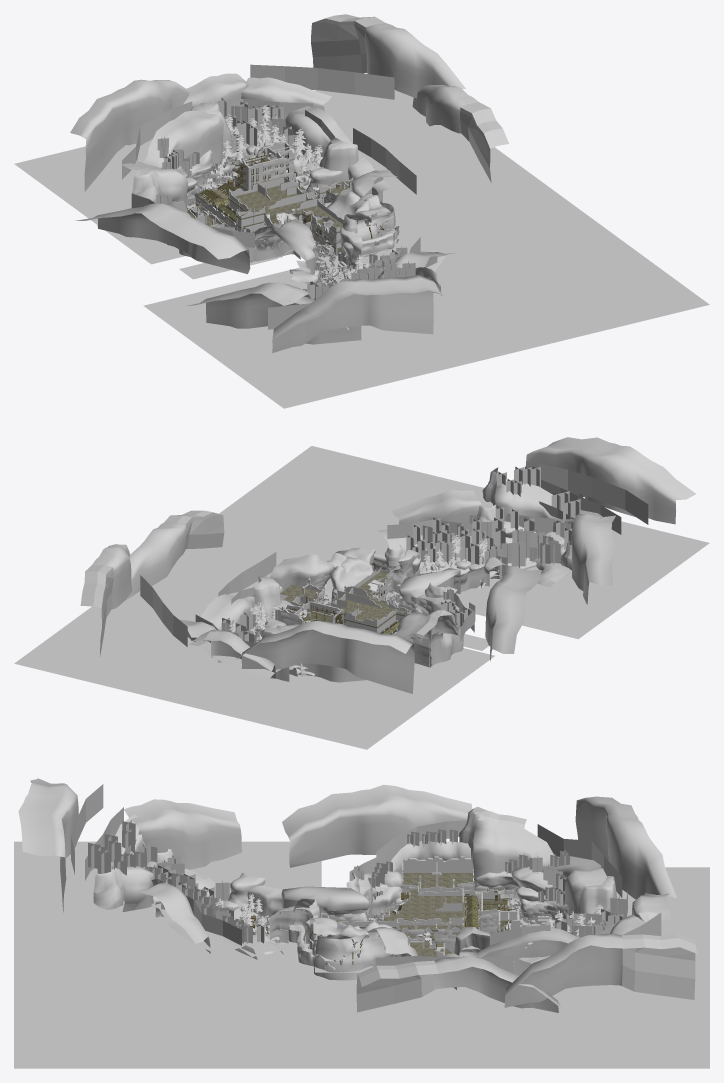
Rendered from StillRaid_World.obj.
The picture shows the model from 3 angles, top to bottom: view 1: azimuth 30°, elevation 25°; view 2: azimuth 150°, elevation 25°; view 3: azimuth 270°, elevation 25°; orthographic projection. The views are drawn at different scales.
Parts seen in each view (by area): view 1: Still_raid_Out, Still_raid_Sub, Z_Still_raid_Alpha, Still_raid_Main; view 2: Still_raid_Out, Z_Still_raid_Alpha, Still_raid_Sub, Still_raid_Main; view 3: Still_raid_Out, Still_raid_Sub, Z_Still_raid_Alpha, Still_raid_Main.
Boxes of the visible parts, bbox=[...] form: Still_raid_Out: bbox=[14, 14, 709, 408]; Still_raid_Sub: bbox=[83, 102, 437, 290]; Z_Still_raid_Alpha: bbox=[122, 64, 420, 329]; Still_raid_Main: bbox=[195, 141, 343, 255]; Still_raid_Out: bbox=[14, 437, 709, 749]; Z_Still_raid_Alpha: bbox=[140, 463, 648, 646]; Still_raid_Sub: bbox=[200, 545, 544, 702]; Still_raid_Main: bbox=[275, 567, 411, 634]; Still_raid_Out: bbox=[14, 778, 709, 1068]; Still_raid_Sub: bbox=[183, 806, 616, 1002]; Z_Still_raid_Alpha: bbox=[71, 784, 661, 973]; Still_raid_Main: bbox=[327, 882, 520, 953].
Size of the model in its own units: 184 by 41.83 by 239.
